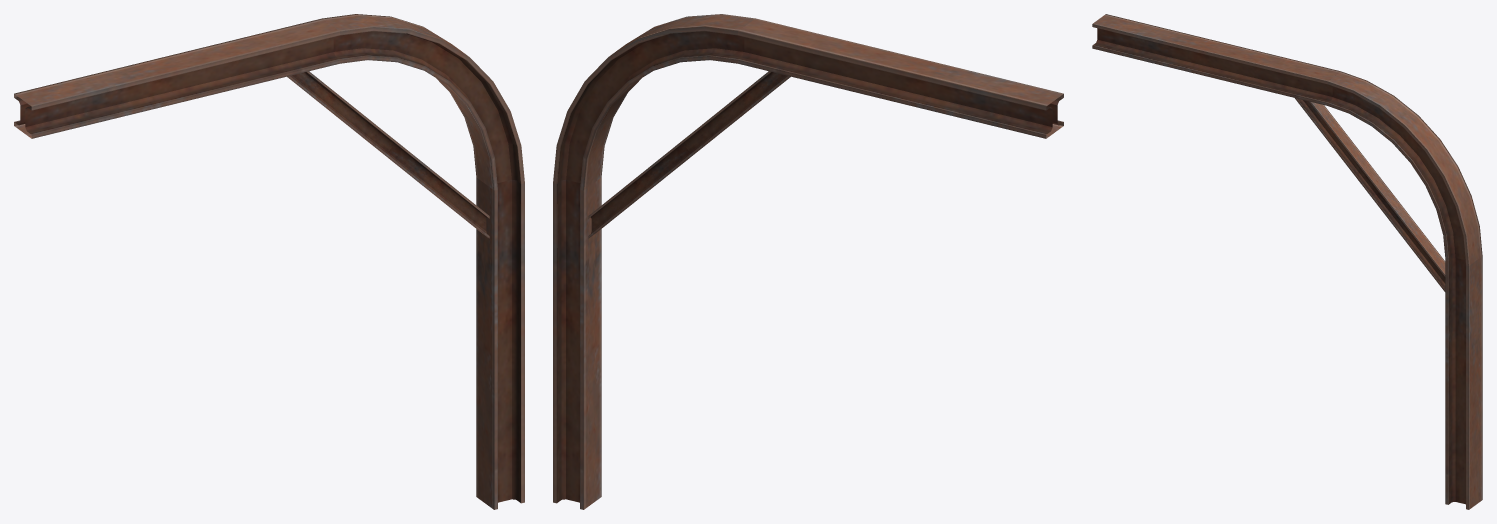
The model's file is welder_girder_roof_to_wall.dae.
The picture shows the model from 3 angles, left to right: view 1: azimuth 30°, elevation 25°; view 2: azimuth 150°, elevation 25°; view 3: azimuth 330°, elevation 25°; orthographic projection. The views are drawn at different scales.
Visible parts, largest first — view 1: welder_girder_support; view 2: welder_girder_support; view 3: welder_girder_support.
Part boxes in pixels (left/top/right/bottom): welder_girder_support: left=14, top=14, right=524, bottom=509; welder_girder_support: left=553, top=14, right=1063, bottom=509; welder_girder_support: left=1092, top=14, right=1482, bottom=509.
Size of the model in its own units: 4 by 4 by 0.25.
